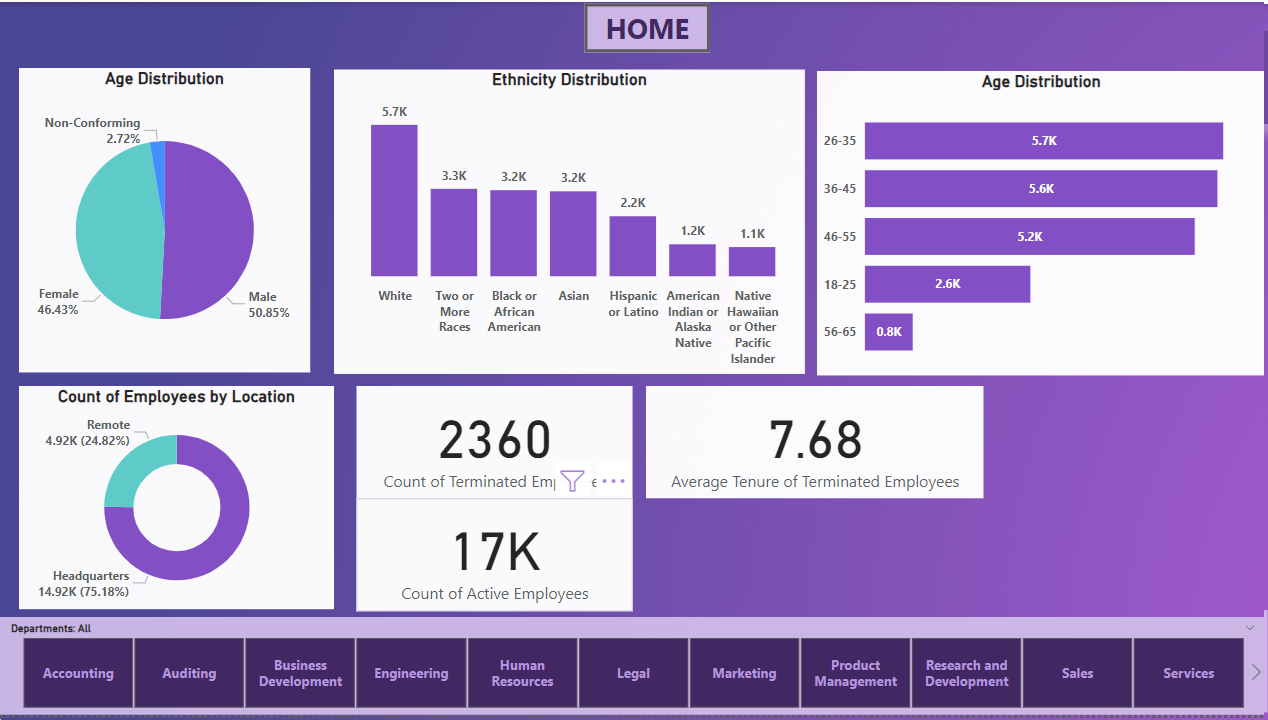

This screenshot's page, from the dashboard's own definition file:
{"tool":"powerbi","page":{"name":"Page 2","canvas":[1280,720],"ordinal":1},"visuals":[{"type":"pieChart","title":"Age Distribution","fields":{"Y":["CountNonNull(hr.gender)"],"Category":["hr.gender"]},"box":[21.2,66.6,293.8,307.4],"z":0},{"type":"actionButton","box":[591.5,1.9,126.6,49.1],"z":1000},{"type":"clusteredColumnChart","title":"Ethnicity Distribution","fields":{"Category":["hr.race"],"Y":["CountNonNull(hr.race)"]},"box":[339.2,68.1,475.5,307.4],"z":2000},{"type":"slicer","fields":{"Values":["hr.department"]},"box":[0,620.8,1281,98.4],"z":3000},{"type":"clusteredBarChart","title":"Age Distribution","fields":{"Category":["hr.age_group"],"Y":["CountNonNull(hr.age_group)"]},"box":[826.8,69.7,452.7,307.4],"z":4000},{"type":"donutChart","title":"Count of Employees by Location","fields":{"Category":["hr.location"],"Y":["CountNonNull(hr.location)"]},"box":[21.2,387.6,318,225.6],"z":5000},{"type":"card","fields":{"Values":["Metrics.Count of Active Employees"]},"box":[361.9,387.6,278.6,113.6],"z":6000},{"type":"card","fields":{"Values":["Metrics.Count of Active Employees"]},"box":[361.9,501.2,278.6,113.6],"z":7000},{"type":"card","fields":{"Values":["Metrics.Average Tenure of Terminated Employees"]},"box":[654.1,387.6,340.7,113.6],"z":8000}]}

Visuals, with their boxes in screenshot pixels (x1, y1, x2, y2), scaled from the page's 1280x720 canvas onto the 1268x720 screenshot:
"Age Distribution" pieChart: locate(21, 67, 312, 374)
actionButton: locate(586, 2, 711, 51)
"Ethnicity Distribution" clusteredColumnChart: locate(336, 68, 807, 376)
slicer - hr.department: locate(0, 621, 1267, 719)
"Age Distribution" clusteredBarChart: locate(819, 70, 1267, 377)
"Count of Employees by Location" donutChart: locate(21, 388, 336, 613)
card - Metrics.Count of Active Employees: locate(359, 388, 634, 501)
card - Metrics.Count of Active Employees: locate(359, 501, 634, 615)
card - Metrics.Average Tenure of Terminated Employees: locate(648, 388, 985, 501)
